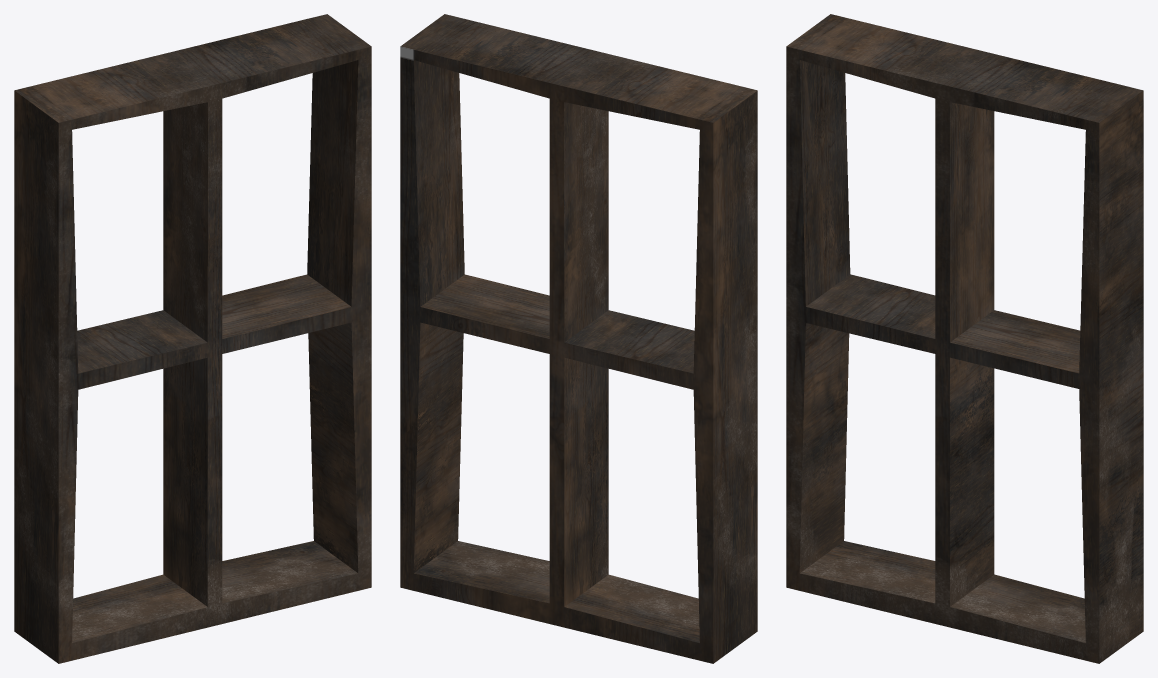
File: window_no_glass_Rock.fbx
3 views of the same model, side by side, from view 1: azimuth 30°, elevation 25°; view 2: azimuth 150°, elevation 25°; view 3: azimuth 330°, elevation 25° (orthographic).
Parts seen in each view (by area): view 1: window no glass; view 2: window no glass; view 3: window no glass.
Boxes of the visible parts, x1,y1,x2,y2 form: window no glass: (14, 14, 371, 663); window no glass: (400, 14, 757, 663); window no glass: (786, 14, 1143, 663).
Bounding box in the file's own units: 2217 × 3662 × 545.
